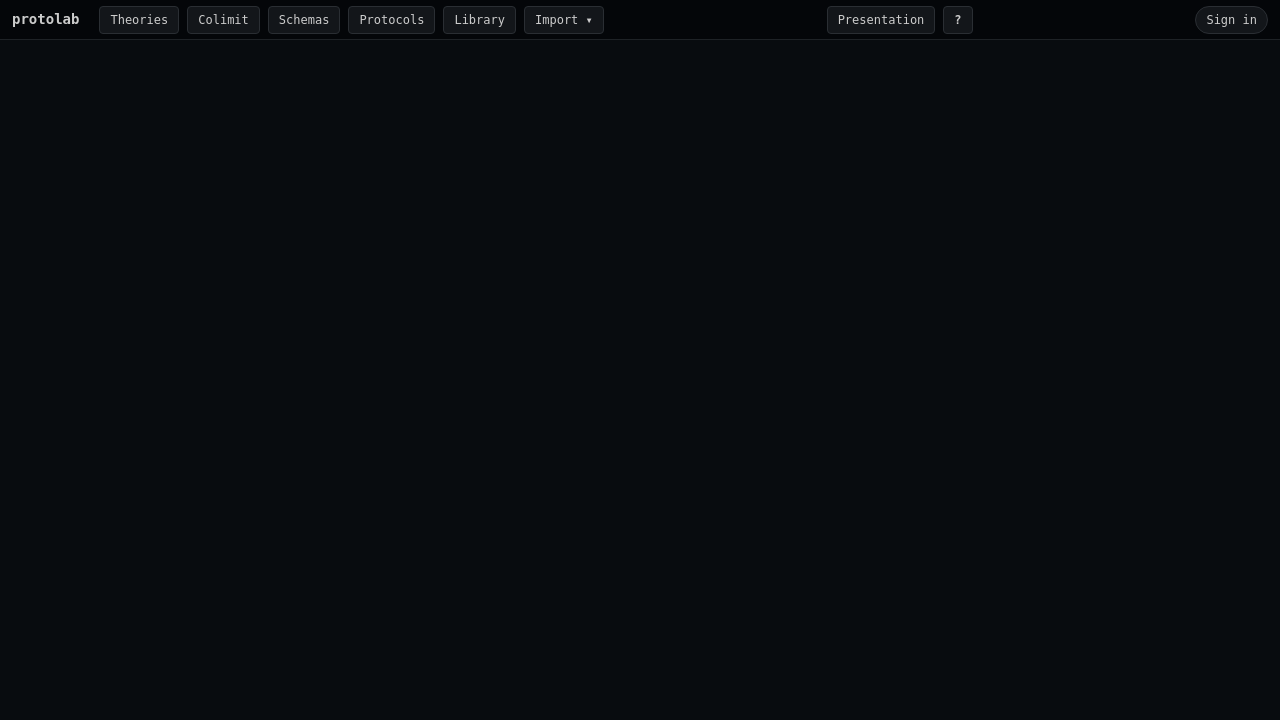
it: Toolbar › clicking Protocols opens the ProtocolEditor modal
Click the button "Protocols".
click(392, 20)  # box [348,6,435,34]
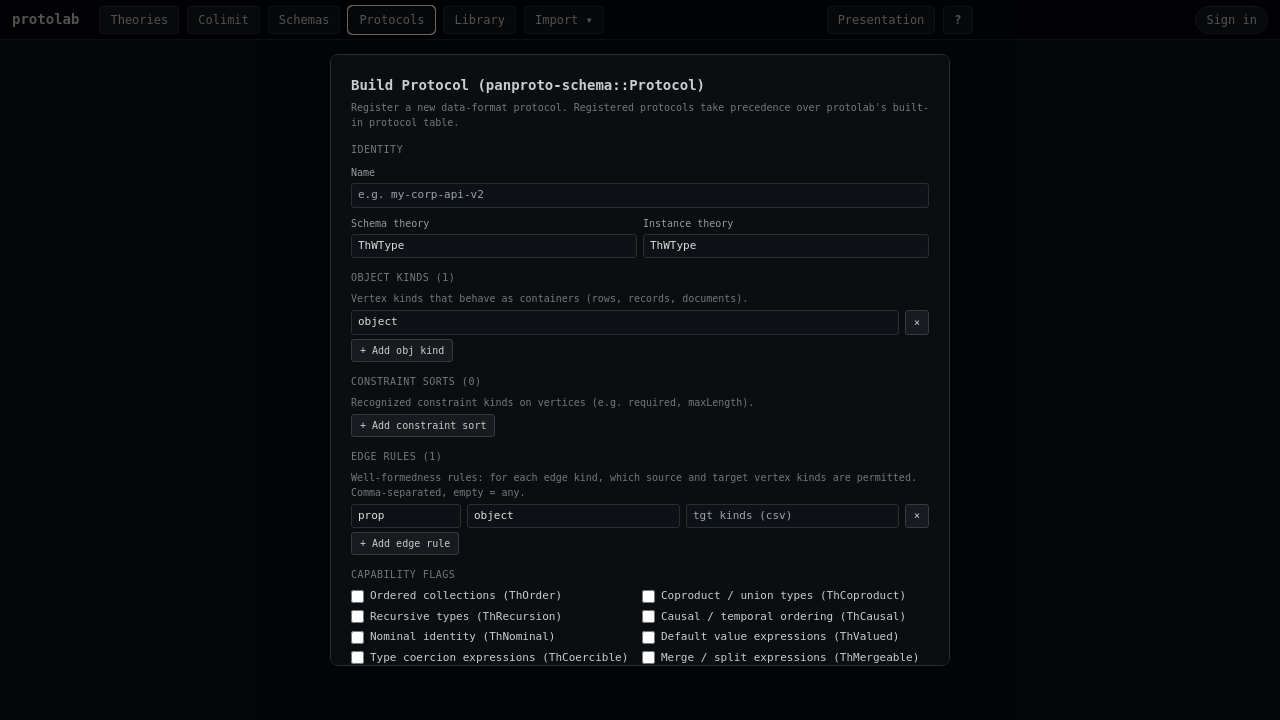
Expected: the text "Build Protocol (panproto-schema::Protocol)" is shown, [351,77,705,93]
